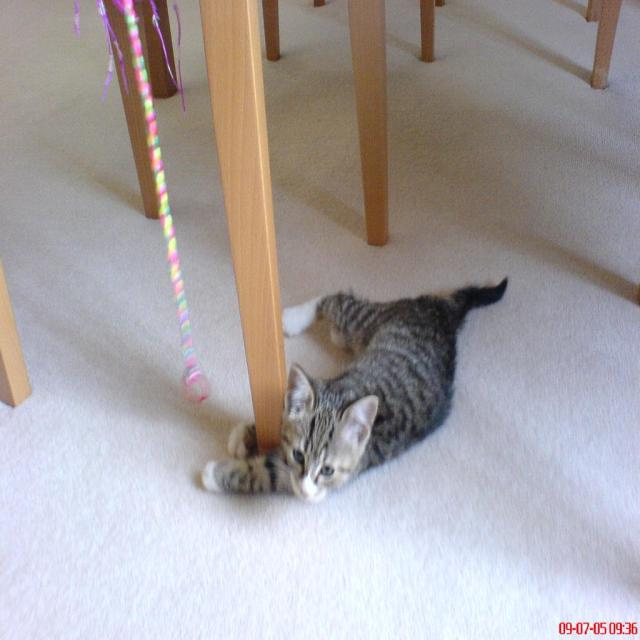Cat: (199, 275, 506, 503)
